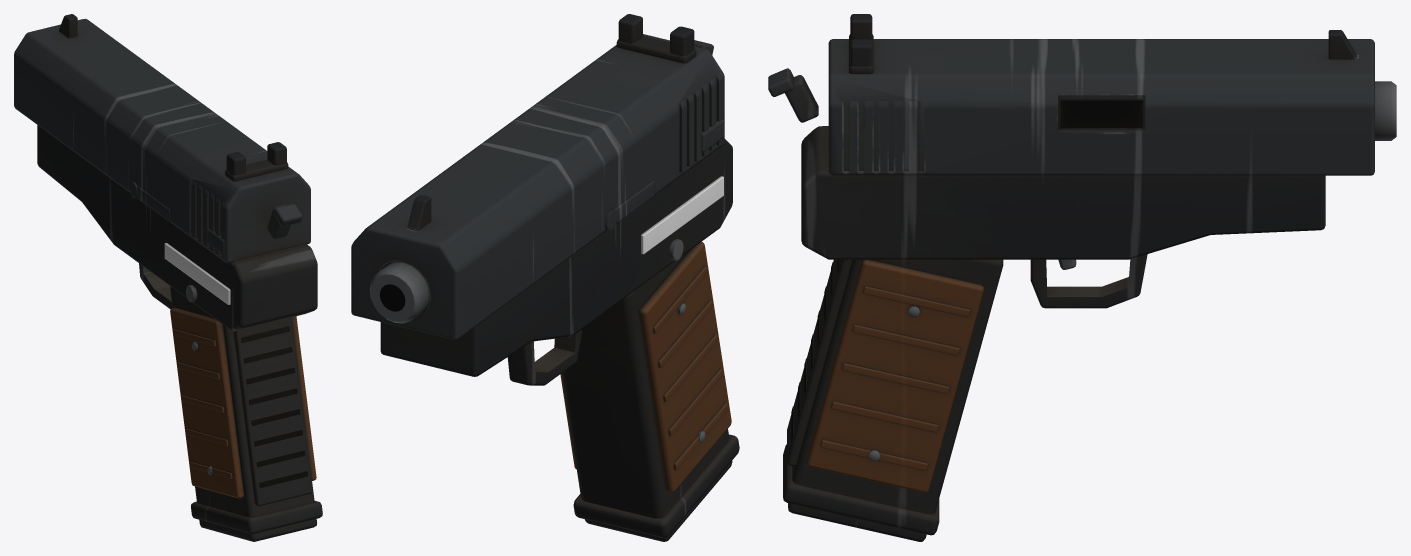
File: weapon_pistol.gltf
3 views of the same model, side by side, from view 1: azimuth 30°, elevation 25°; view 2: azimuth 150°, elevation 25°; view 3: azimuth 270°, elevation 25° (orthographic). The views are drawn at different scales.
Parts seen in each view (by area): view 1: Body, Slide, Mag; view 2: Body, Slide, Mag; view 3: Body, Slide, Mag.
Boxes of the visible parts, x1,y1,x2,y2 form: Body: (37,125,322,534); Slide: (14,14,310,263); Mag: (199,519,316,541); Body: (369,40,739,538); Slide: (351,14,724,339); Mag: (585,460,732,541); Body: (768,68,1396,535); Slide: (828,14,1374,175); Mag: (788,503,926,541).
Bounding box in the file's own units: 0.047 × 0.1994 × 0.2301.
Materials: 7 (7 with a texture image).
